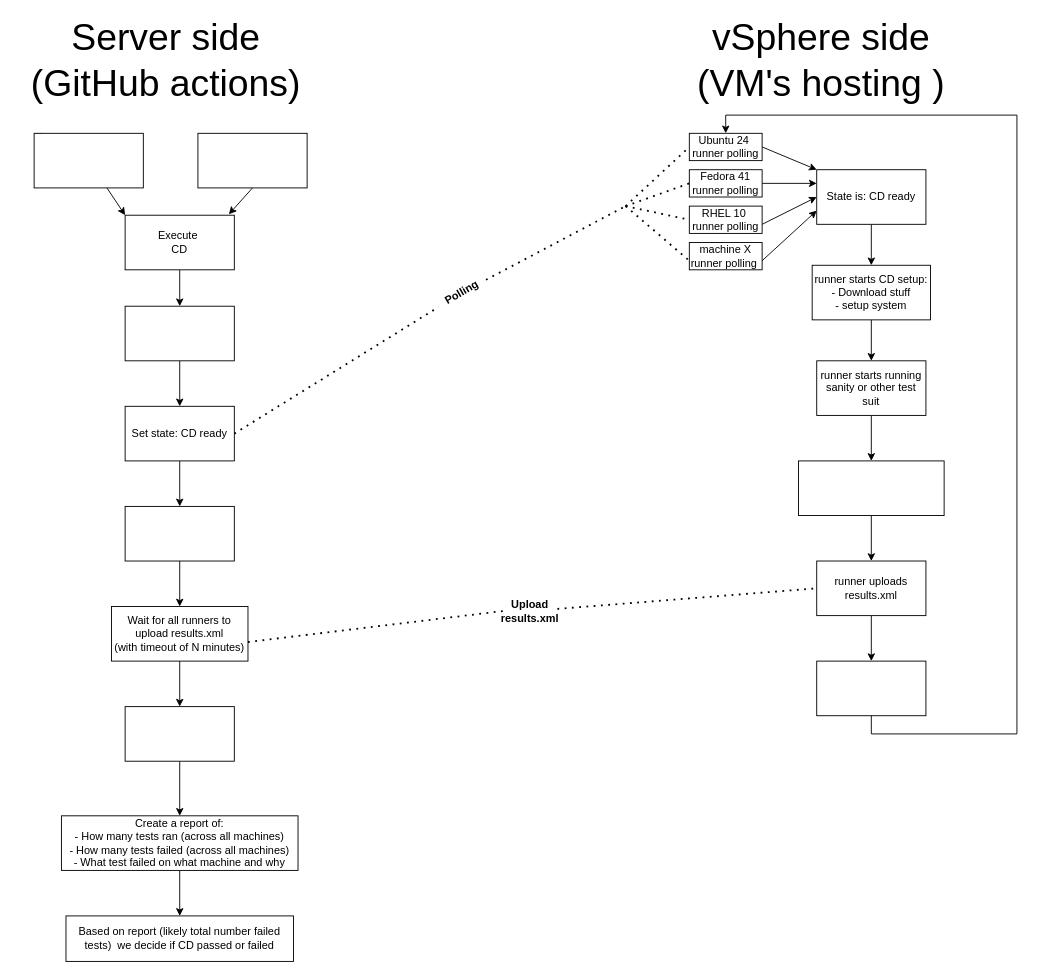
This 1040x977 diagram has some shape labels left out. Each missing label, with the centre of its shape:
"Analyze all results.xml" belongs at point 179,733.
"Manual execution" belongs at point 252,160.
"Pull request" belongs at point 88,160.
"runner cleans system: - remove artifacts - Kill/delete remains" belongs at point 871,688.
"runner wait until tests finish (with timeout of N minutes)" belongs at point 871,488.
"Setup everything that is needed (artifacts, variables, etc')" belongs at point 179,333.
"Wait until all runners polled new state and started execution flow" belongs at point 179,533.
